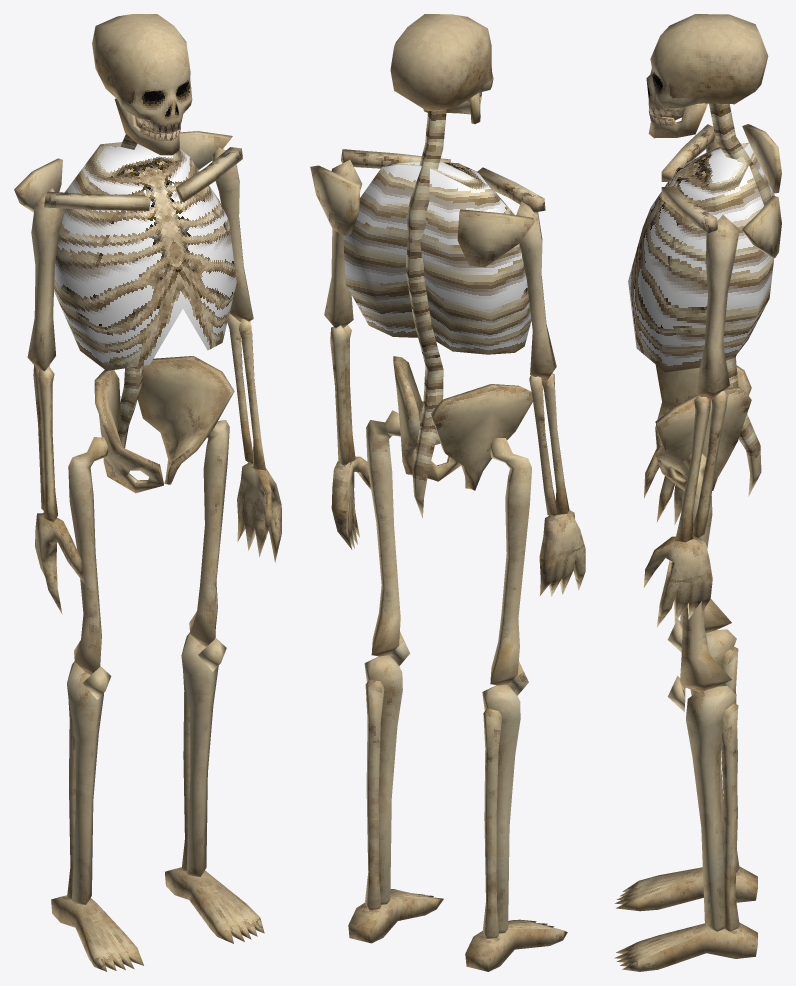
The model's file is skeleton_character_psx_relaxed_static.glb.
The picture shows the model from 3 angles, left to right: view 1: azimuth 30°, elevation 25°; view 2: azimuth 150°, elevation 25°; view 3: azimuth 270°, elevation 25°; orthographic projection. The views are drawn at different scales.
Parts seen in each view (by area): view 1: SkeletonCharacterPSX_Relaxed_Static; view 2: SkeletonCharacterPSX_Relaxed_Static; view 3: SkeletonCharacterPSX_Relaxed_Static.
Boxes of the visible parts, left/top/right/bottom form: SkeletonCharacterPSX_Relaxed_Static: left=14, top=14, right=281, bottom=971; SkeletonCharacterPSX_Relaxed_Static: left=310, top=14, right=585, bottom=971; SkeletonCharacterPSX_Relaxed_Static: left=614, top=14, right=781, bottom=971.
Bounding box in the file's own units: 0.4265 × 1.53 × 0.2561.
Materials: 1 (1 with a texture image).
